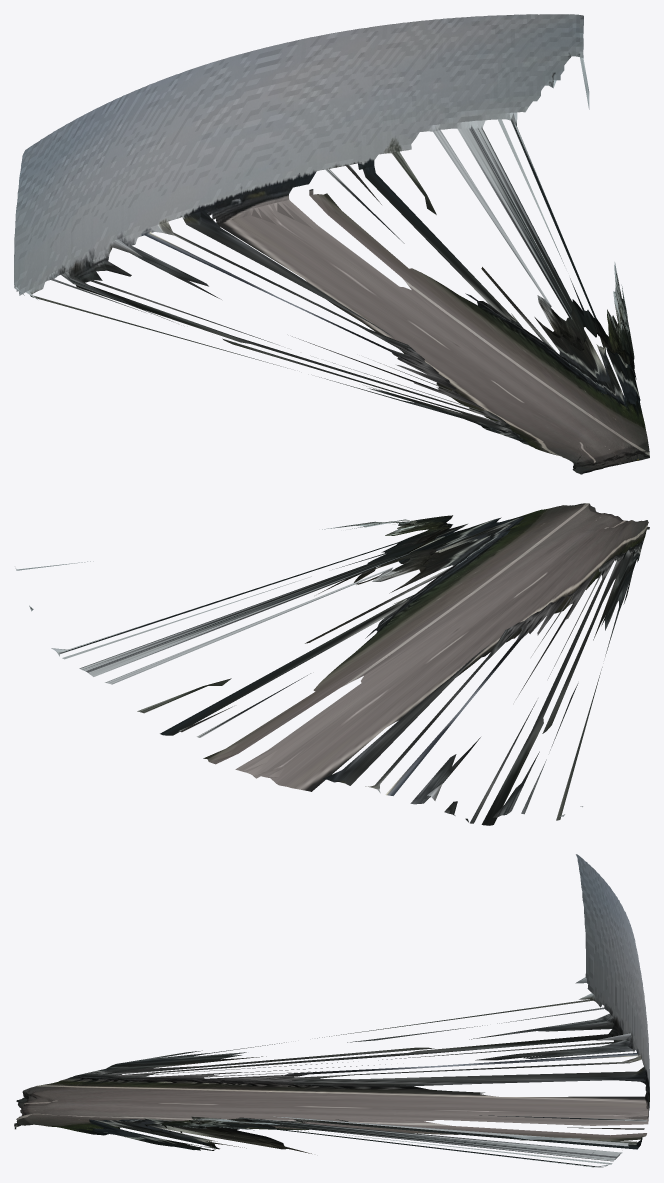
3 renders of one model, top to bottom at view 1: azimuth 30°, elevation 25°; view 2: azimuth 150°, elevation 25°; view 3: azimuth 270°, elevation 25°, orthographic. The views are drawn at different scales.
Visible parts, largest first — view 1: defaultobject; view 2: defaultobject; view 3: defaultobject.
Part boxes in pixels (x1,y1,x2,y2): defaultobject: [14, 14, 649, 474]; defaultobject: [15, 503, 649, 825]; defaultobject: [14, 854, 649, 1167].
Bounding box in the file's own units: 41 × 12.32 × 44.37.
1 material, 1 textured.
